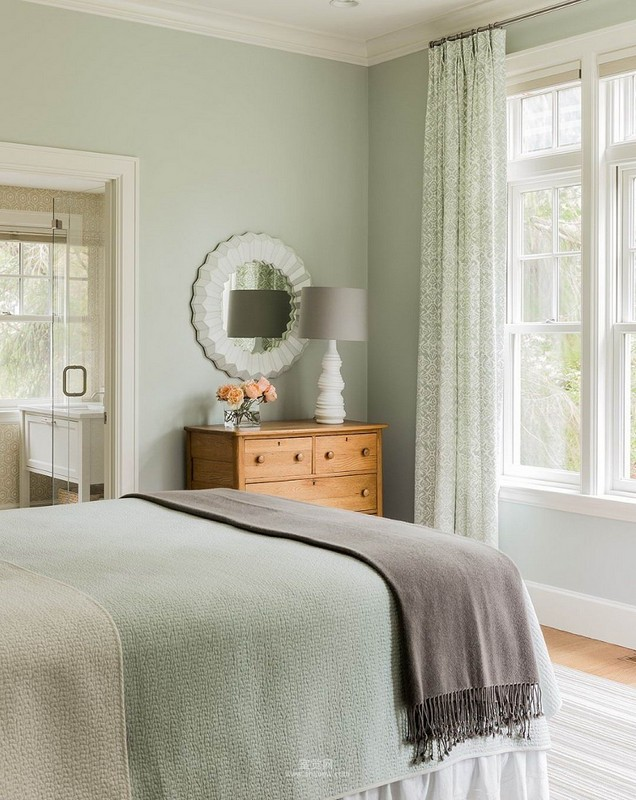bed: (1, 475, 561, 795)
lamp: (298, 284, 372, 433)
stool: (184, 413, 396, 534)
